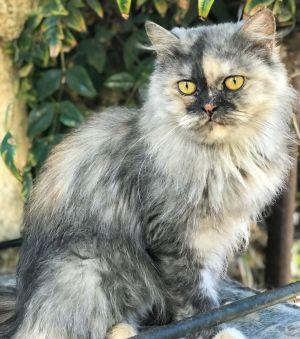persian: (136, 2, 294, 163)
